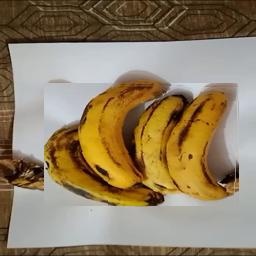Banana Semifresh: (45, 83, 240, 206)
